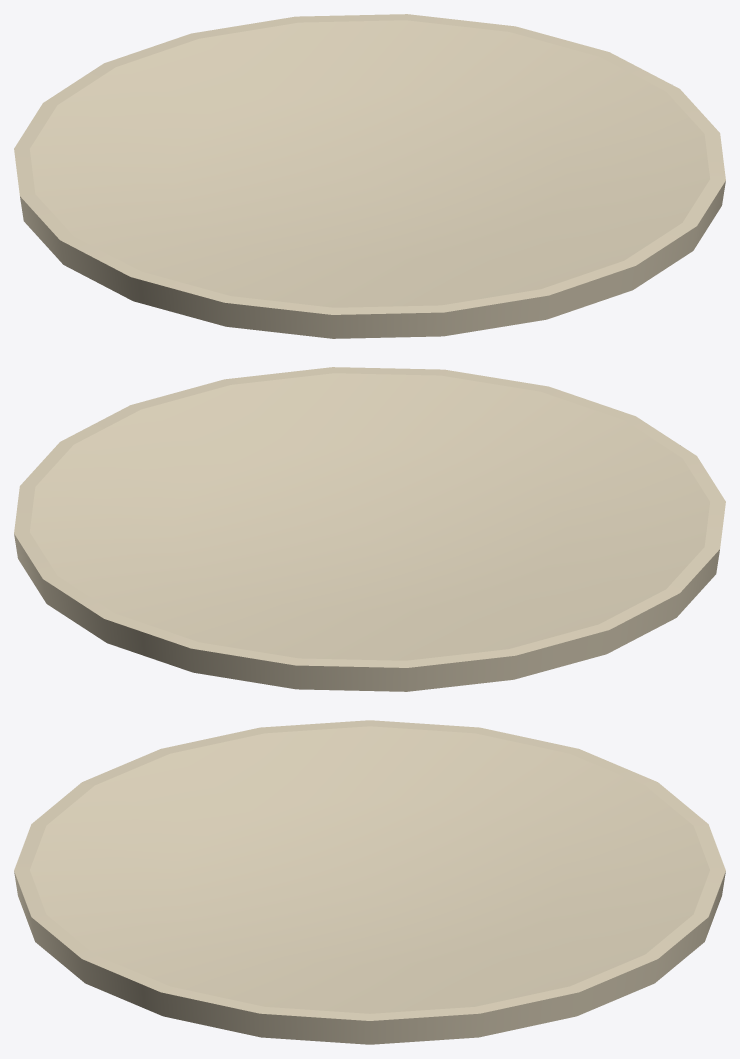
The model's file is DiningPlate.fbx.
3 renders of one model, top to bottom at view 1: azimuth 30°, elevation 25°; view 2: azimuth 150°, elevation 25°; view 3: azimuth 270°, elevation 25°, orthographic.
Parts seen in each view (by area): view 1: Plate:Plate1; view 2: Plate:Plate1; view 3: Plate:Plate1.
Part boxes in pixels (<box>): Plate:Plate1: <box>14,14,725,338</box>; Plate:Plate1: <box>14,367,725,691</box>; Plate:Plate1: <box>14,720,725,1044</box>.
Bounding box in the file's own units: 72.67 × 4.6 × 72.67.
